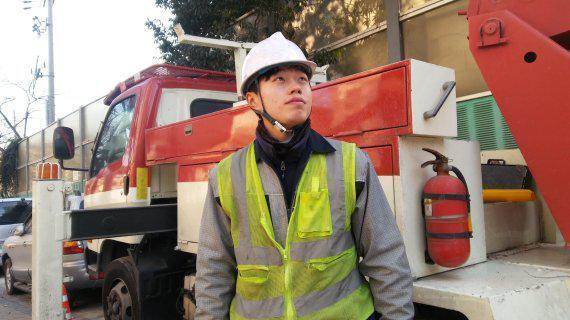helmet: (241, 31, 317, 95)
